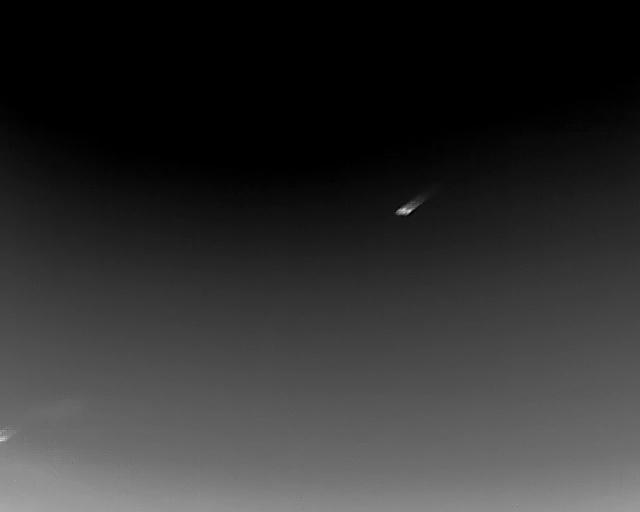fpv-drone: (395, 187, 436, 216)
